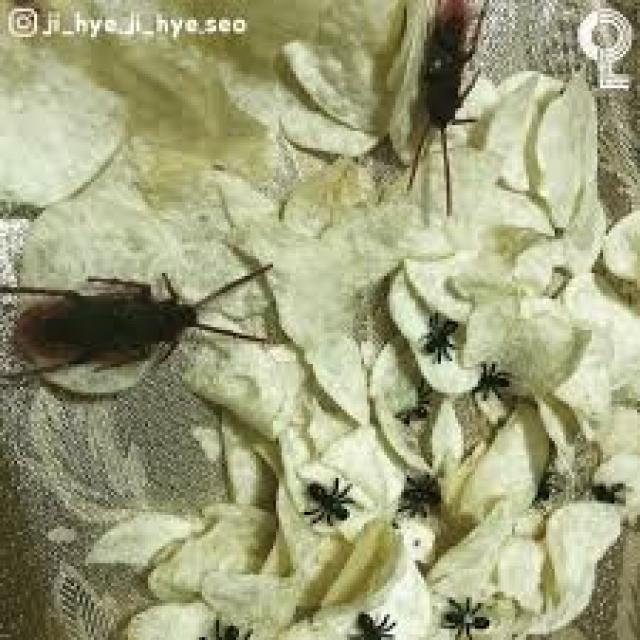Cockroach: (0, 240, 291, 410), (368, 0, 520, 214)
